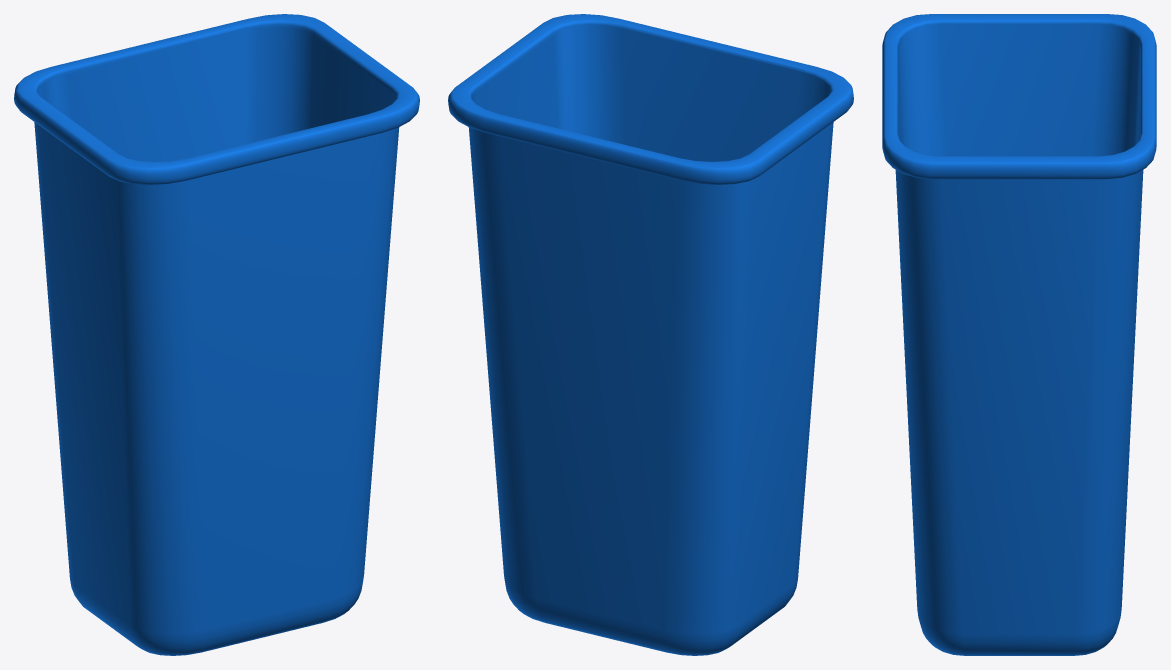
The model's file is trash_office.glb.
3 views of the same model, side by side, from view 1: azimuth 30°, elevation 25°; view 2: azimuth 150°, elevation 25°; view 3: azimuth 270°, elevation 25° (orthographic).
Visible parts, largest first — view 1: TrashCan_Material.003_0; view 2: TrashCan_Material.003_0; view 3: TrashCan_Material.003_0.
Boxes of the visible parts, x1,y1,x2,y2 form: TrashCan_Material.003_0: (14, 14, 419, 655); TrashCan_Material.003_0: (448, 14, 853, 655); TrashCan_Material.003_0: (882, 14, 1156, 655).
Size of the model in its own units: 0.4882 by 0.78 by 0.3738.
